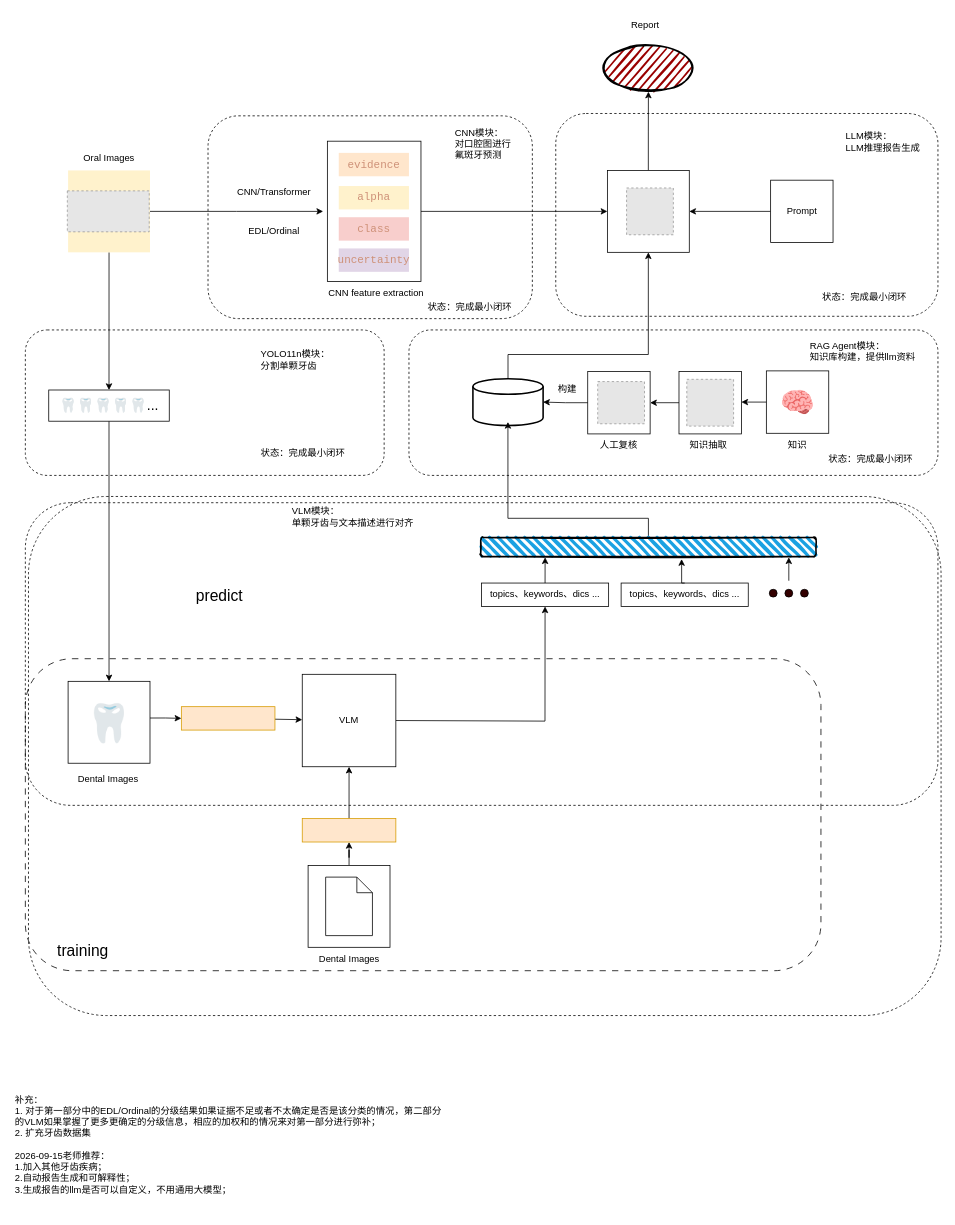
The diagram is 955 pixels wide and 1225 high, and some of its shapes have lost their labels. Grey dashed boxes stand in for pictures. The box of each missing label's shape, as (x1, y1, x2, y2) in pixels:
Text embeding: (301, 818, 396, 842)
Vision embeding: (181, 706, 275, 730)
有病... 真假... 严重...: (325, 876, 372, 936)
知识库: (472, 378, 544, 426)
